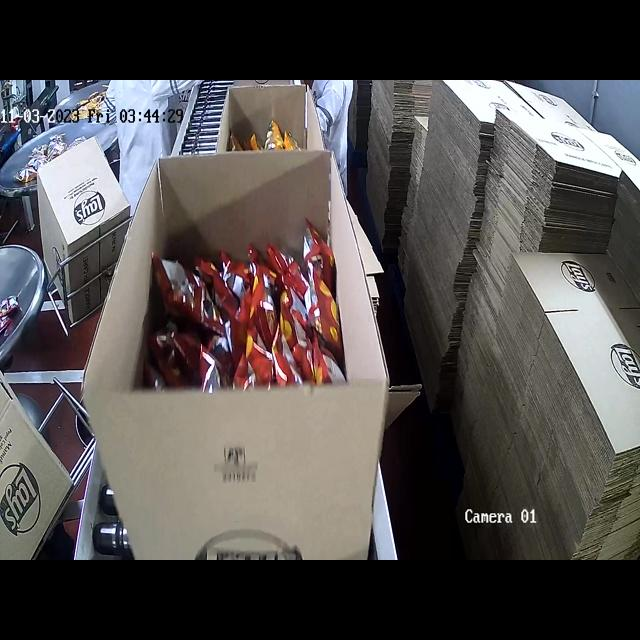cheese: (226, 117, 308, 149)
masala: (151, 231, 343, 394)
